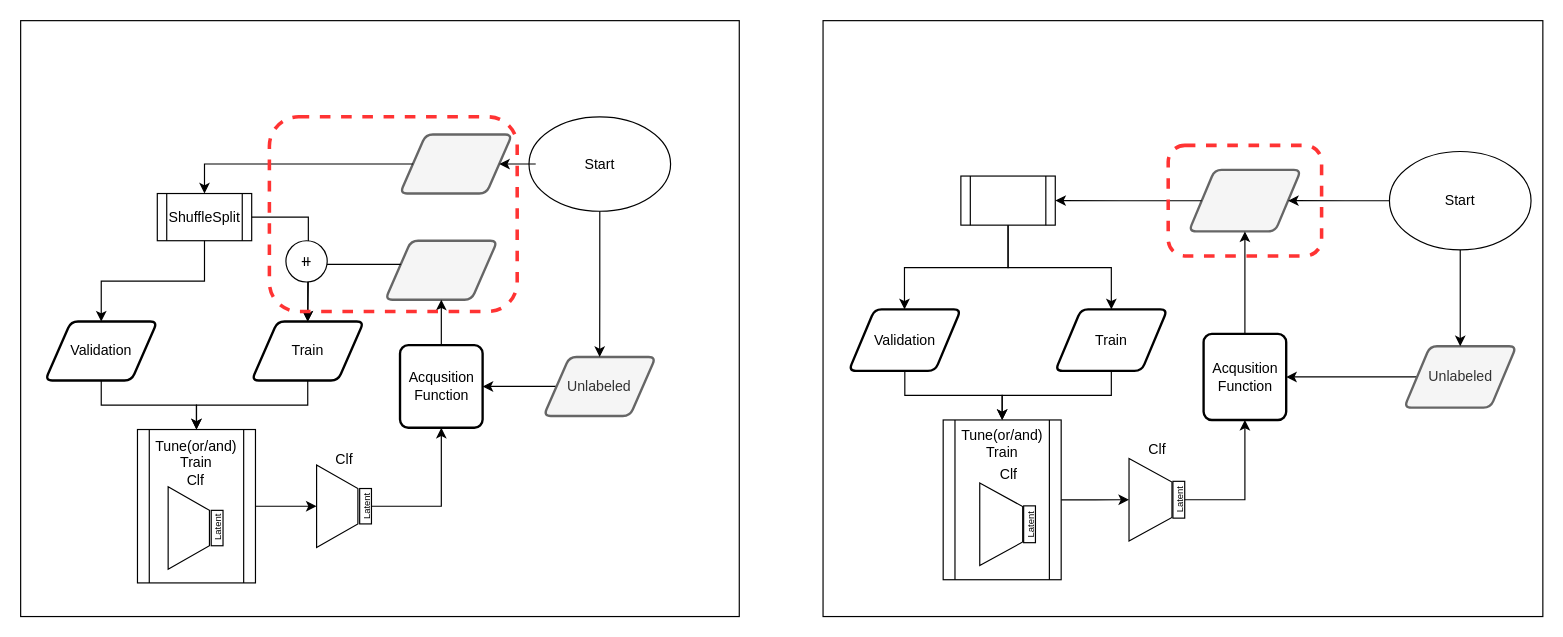
This 1563x637 diagram has some shape labels left out. Each missing label, with the box of its shape:
Conventional AL Framework: (822, 19, 1543, 617)
Labeled: (1187, 168, 1302, 232)
Newly Labeled: (384, 239, 498, 300)
Proposed AL Framework: (19, 19, 739, 617)
SomeSplit: (960, 175, 1055, 225)
Unviolated Labeled: (398, 133, 513, 194)
